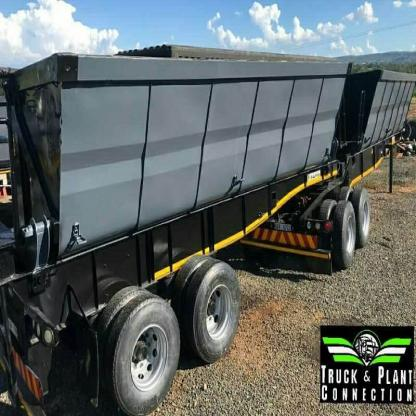dump_truck: (10, 24, 416, 404)
